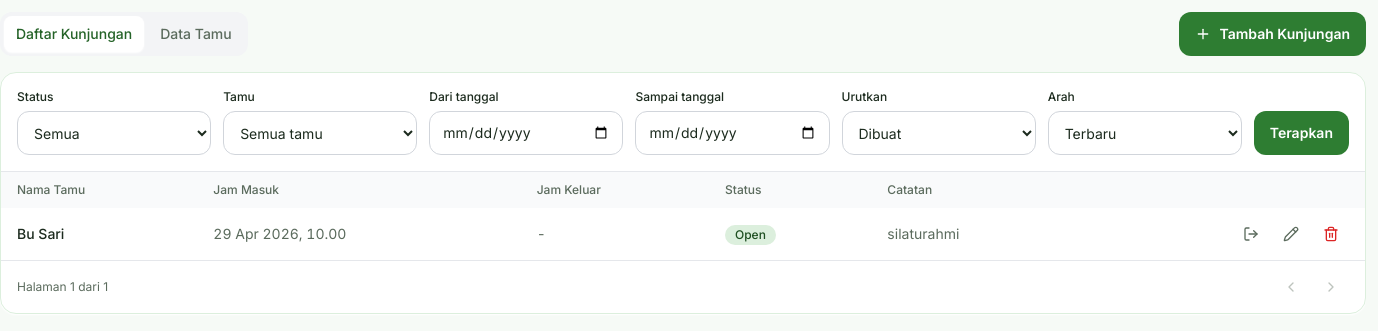
it: TamuPage › switch ke tab Data Tamu → tampil daftar tamu
The image size is (1378, 331).
Click the tab "Data Tamu".
click(196, 34)  # box [148,16,244,52]
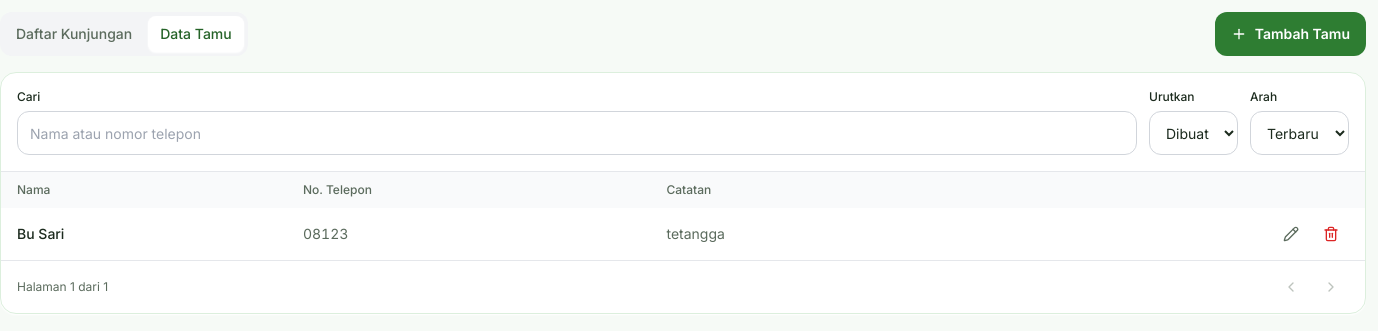
Expected: the text "Bu Sari" is shown, [1,208,287,260]
Expected: the text "08123" is shown, [287,208,650,260]
